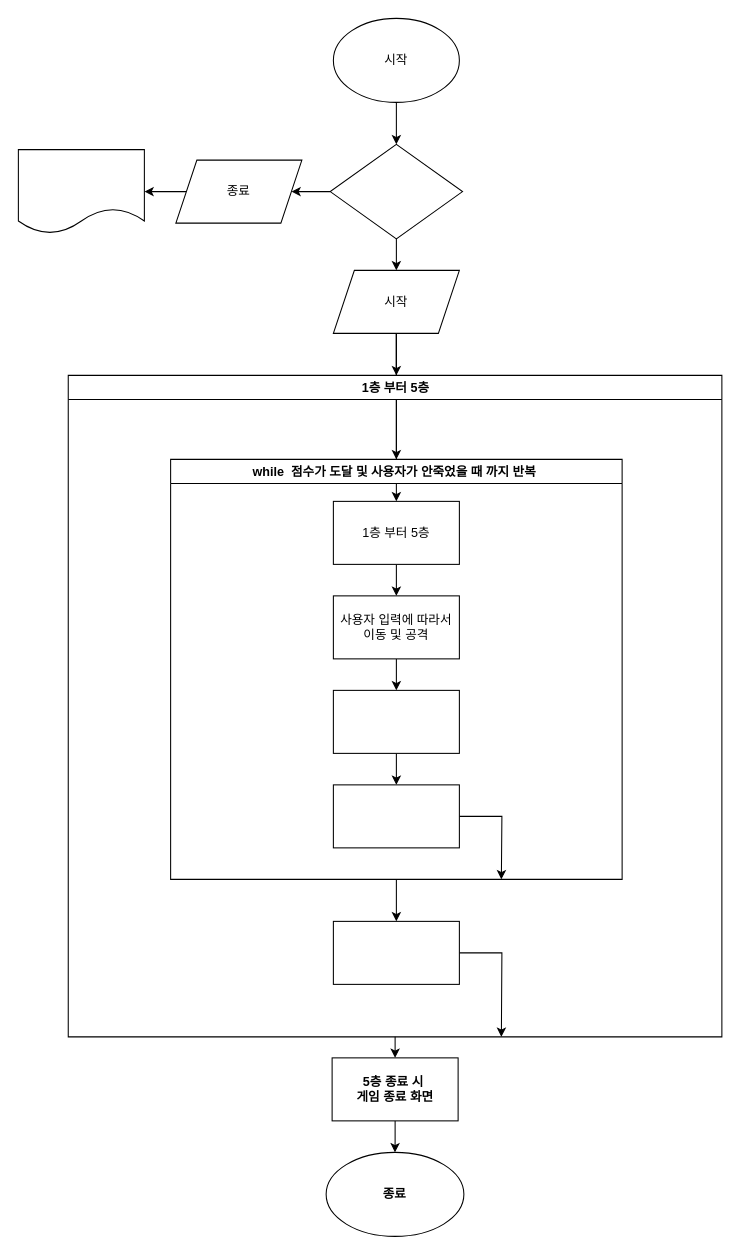
Image size: 740x1255. Some labels were removed from this diagram. The centre of each missing label's shape, as x and y in pixels:
"몬스터 이동" belongs at (x=395, y=721).
"몬스터가 공격" belongs at (x=395, y=816).
"시작 or 종료 선택" belongs at (x=396, y=191).
"점수 도달하면 다음 라운드 시작" belongs at (x=395, y=952).
"종료 화면 출력" belongs at (x=80, y=191).
